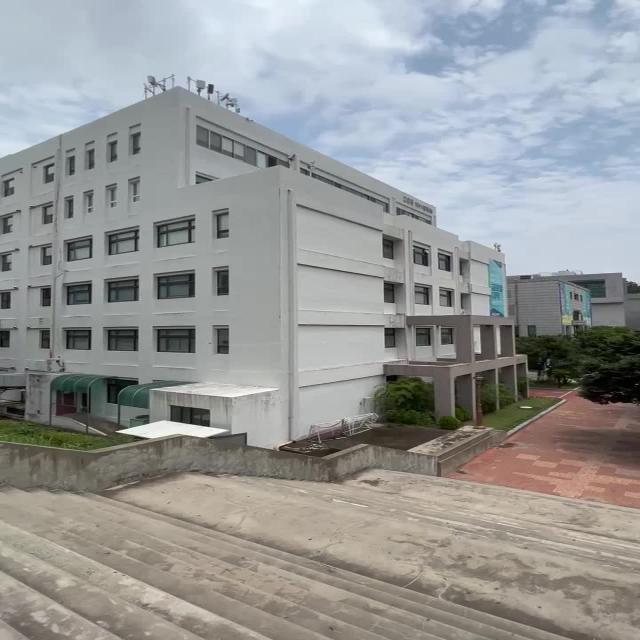building: (14, 90, 524, 425)
